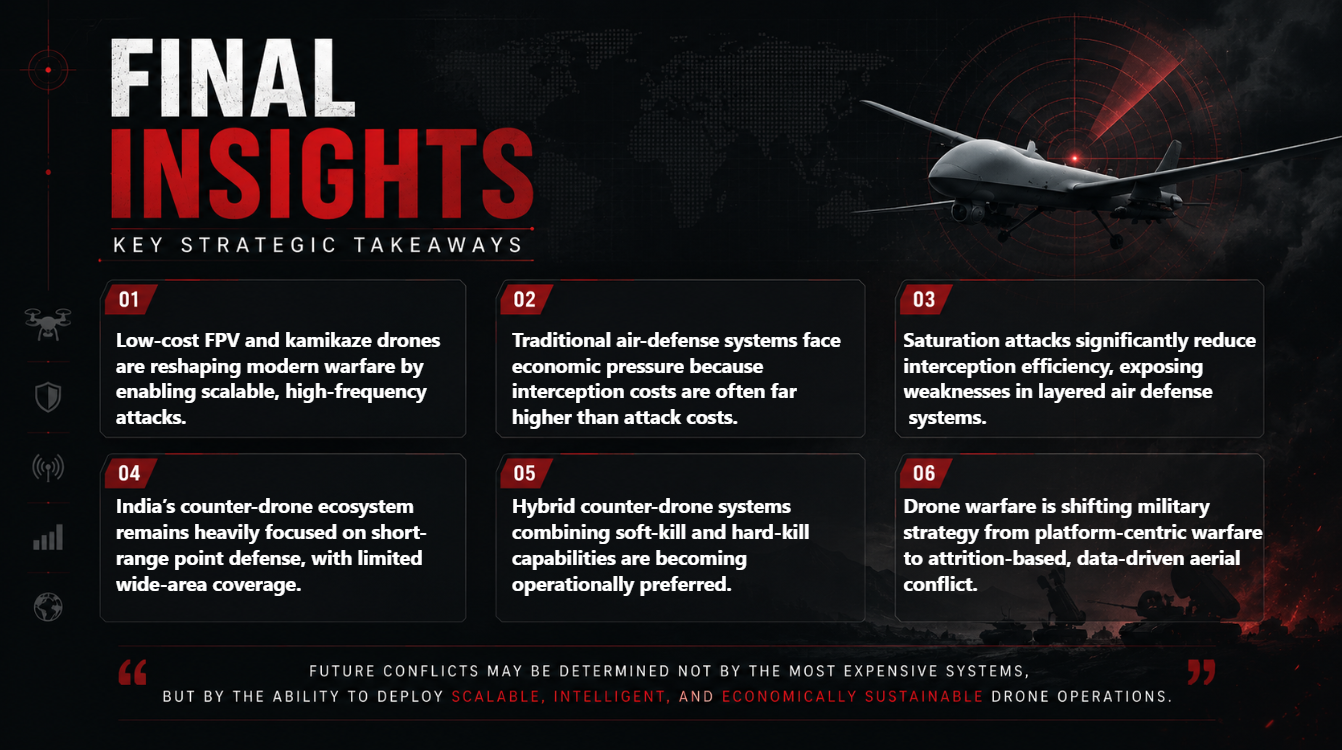

This screenshot's page, from the dashboard's own definition file:
{"tool":"powerbi","page":{"name":"Final Insights","canvas":[1280,720],"ordinal":5},"visuals":[{"type":"textbox","box":[107.5,305.9,345.2,113.6],"z":0},{"type":"textbox","box":[484.5,305.9,342.2,113.6],"z":1},{"type":"textbox","box":[857,305.9,393.7,113.6],"z":2},{"type":"textbox","box":[107.5,464.9,345.2,127.2],"z":3},{"type":"textbox","box":[484.5,464.9,342.2,127.2],"z":4},{"type":"textbox","box":[857,464.9,354.3,127.2],"z":5}]}

Visuals, with their boxes in screenshot pixels (x1, y1, x2, y2), scaled from the page's 1280x720 canvas onto the 1342x750 screenshot:
textbox: (left=113, top=319, right=475, bottom=437)
textbox: (left=508, top=319, right=867, bottom=437)
textbox: (left=899, top=319, right=1311, bottom=437)
textbox: (left=113, top=484, right=475, bottom=617)
textbox: (left=508, top=484, right=867, bottom=617)
textbox: (left=899, top=484, right=1270, bottom=617)
